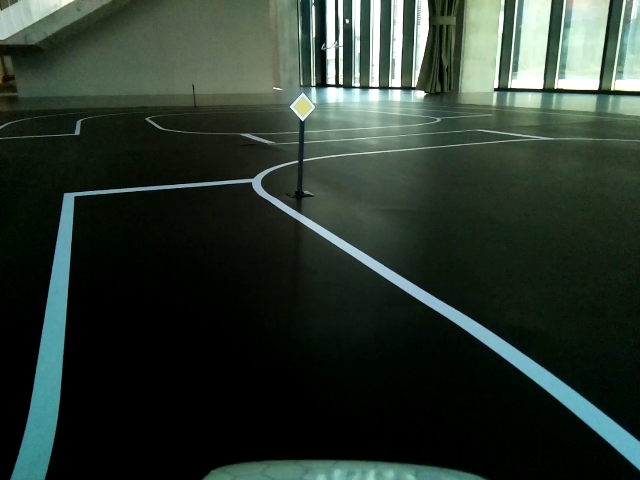priority: (287, 93, 314, 121)
